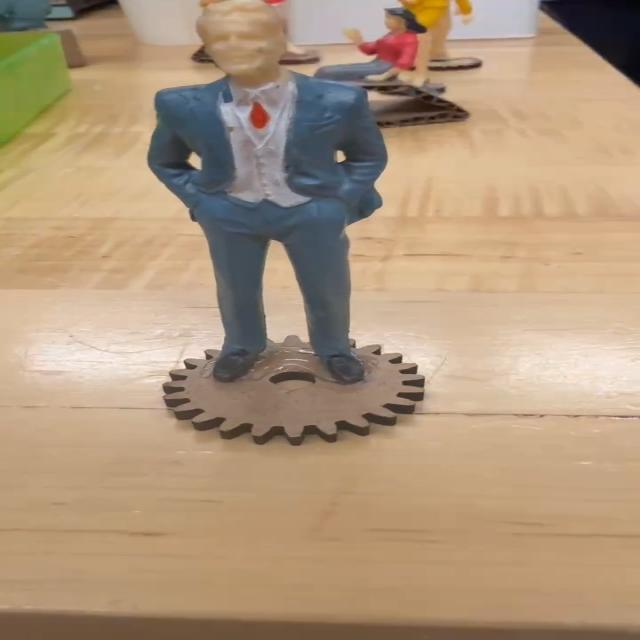Authorized: (124, 0, 407, 390)
